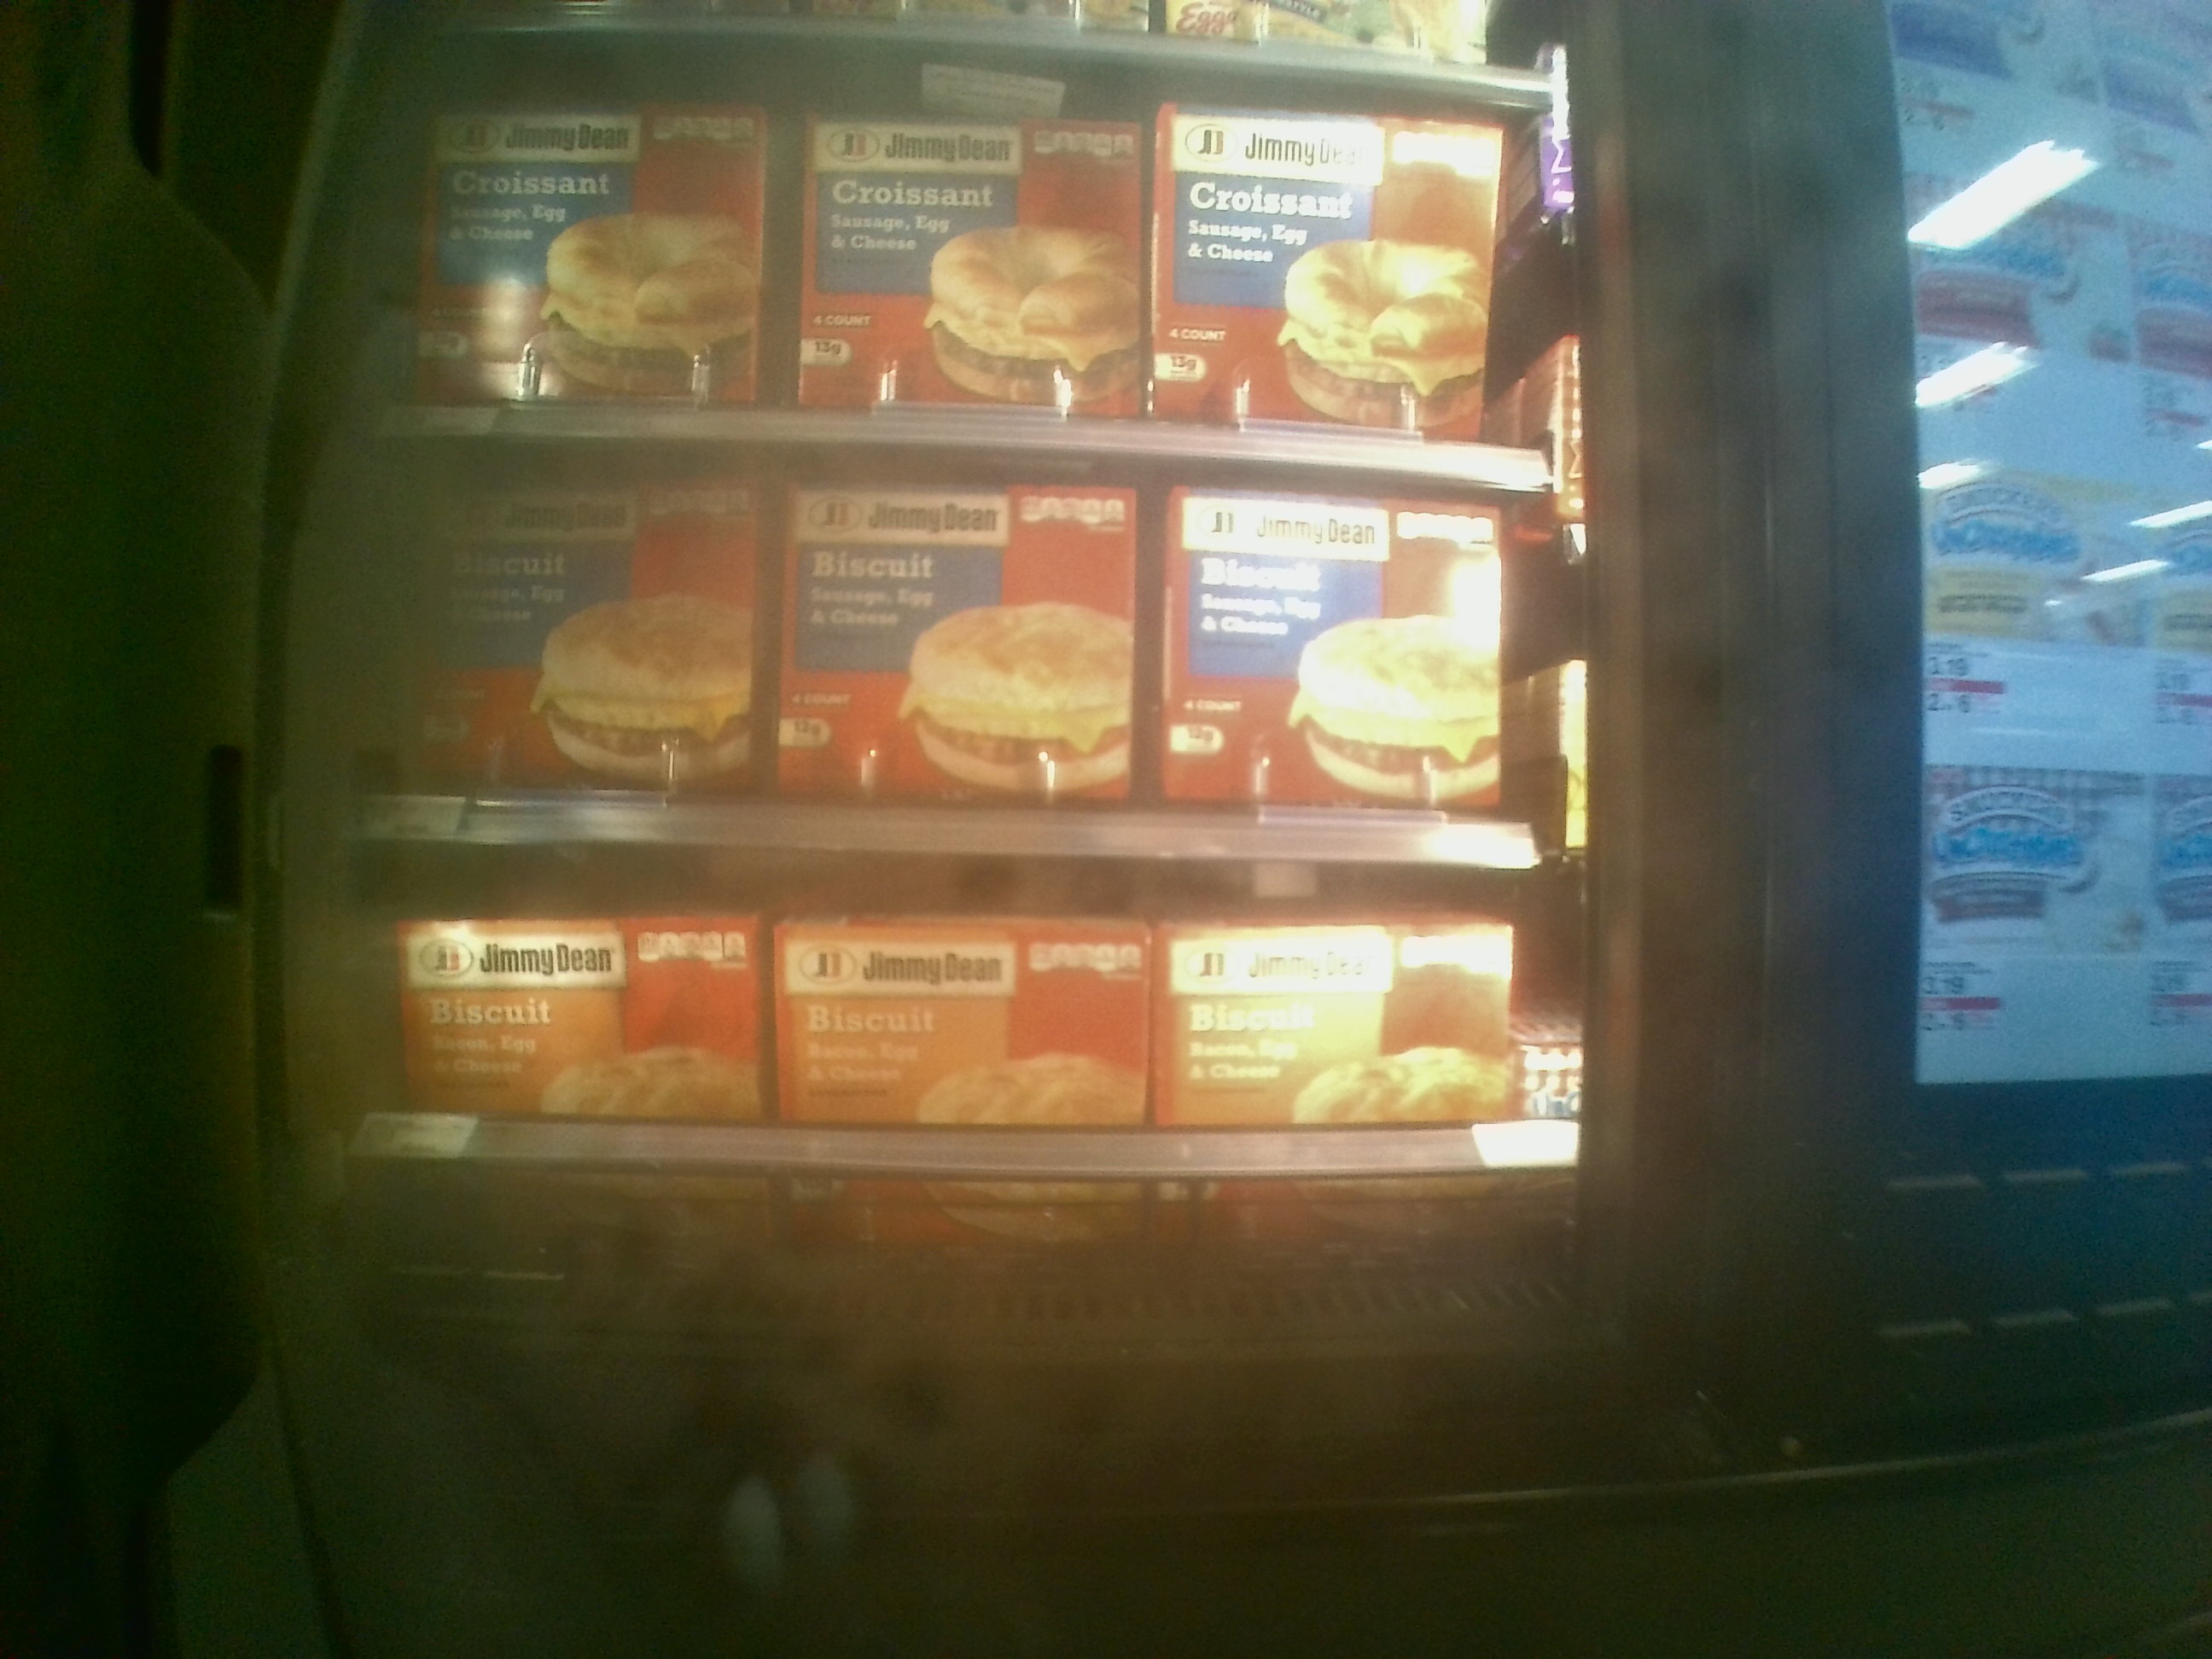shelf: (348, 425, 1554, 870), (340, 847, 1595, 1248)
